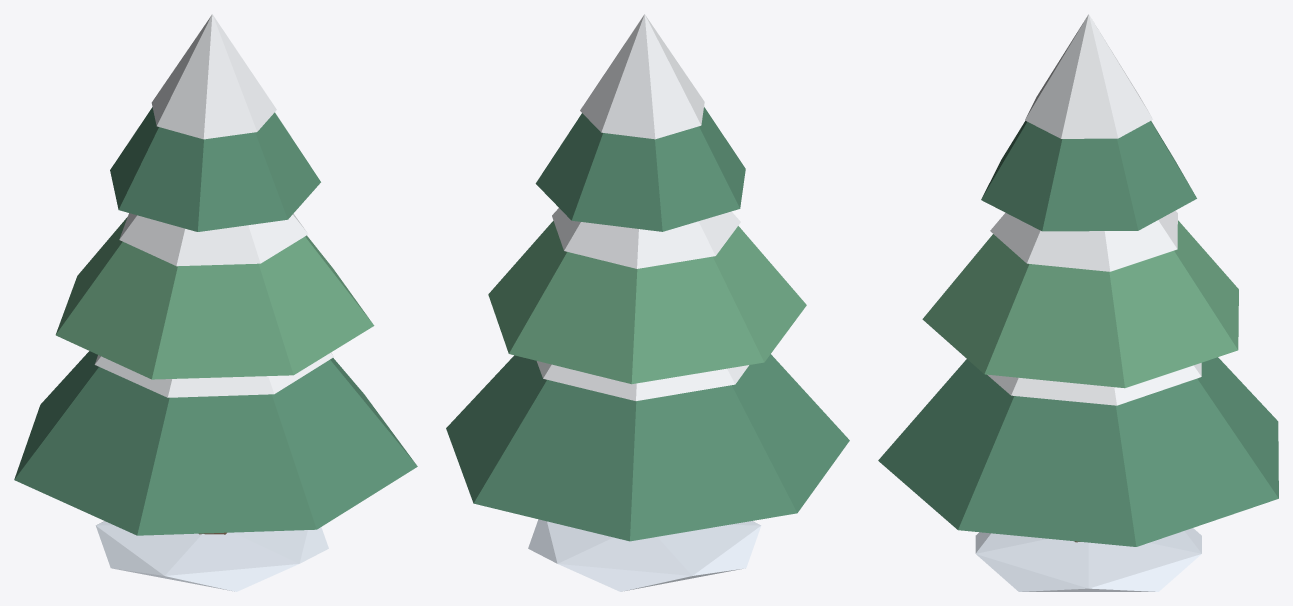
The model's file is Snowy_Pine.glb.
The picture shows the model from 3 angles, left to right: view 1: azimuth 30°, elevation 25°; view 2: azimuth 150°, elevation 25°; view 3: azimuth 270°, elevation 25°; orthographic projection.
Visible parts, largest first — view 1: Snowy_Pine; view 2: Snowy_Pine; view 3: Snowy_Pine.
Boxes of the visible parts, bbox=[...] form: Snowy_Pine: bbox=[14, 14, 417, 591]; Snowy_Pine: bbox=[446, 14, 849, 591]; Snowy_Pine: bbox=[878, 14, 1278, 591].
Bounding box in the file's own units: 1.85 × 2.71 × 1.81.
